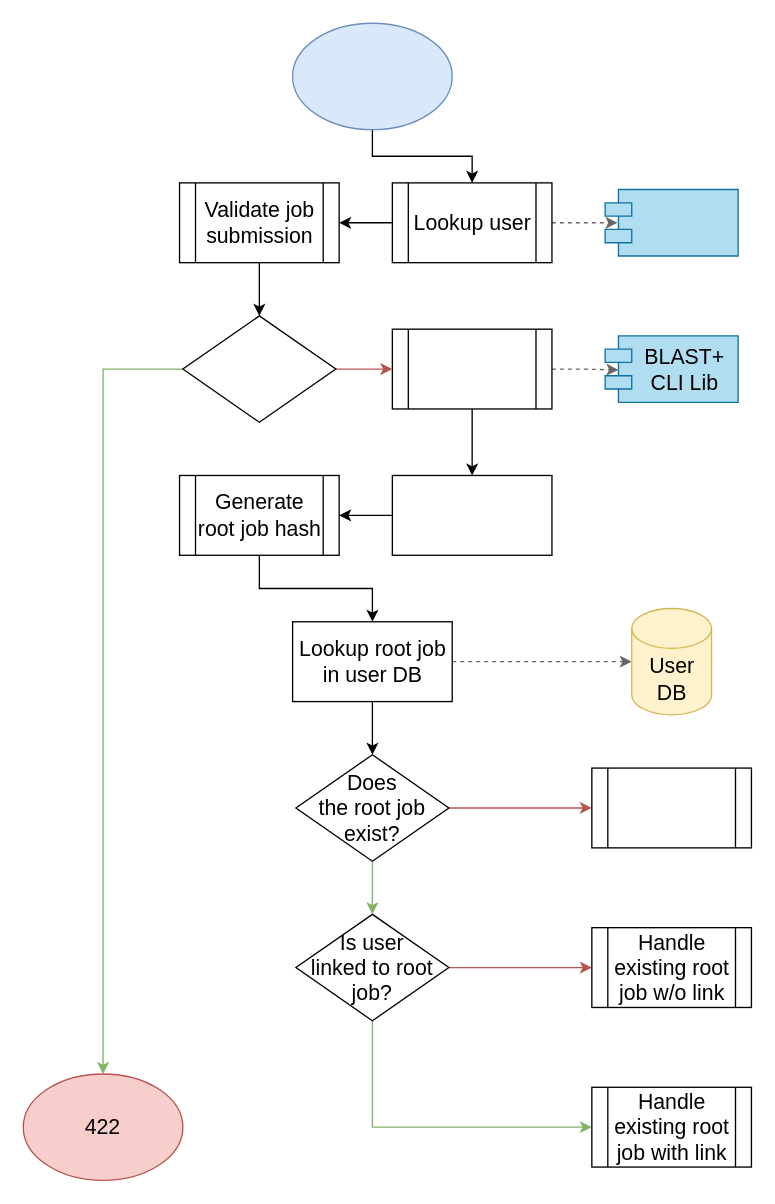
Image size: 775x1204. Some labels were removed from this diagram. Here are the shapes that lost their labels. From the top down, the centre of each, then its label:
At [371,76]: "Start".
At [671,222]: "Container Core".
At [259,368]: "Are there validation errors?".
At [471,368]: "Translate Blast config".
At [471,514]: "Write sequences out to file(s)".
At [671,807]: "Handle new root job creation.".
